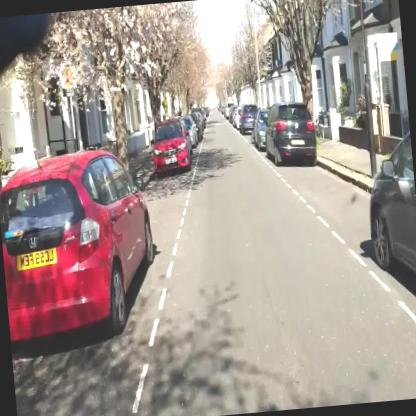car: (0, 144, 162, 358), (360, 116, 415, 376), (261, 100, 318, 170), (151, 118, 193, 178), (252, 108, 273, 153), (238, 105, 260, 136), (183, 115, 199, 148)
